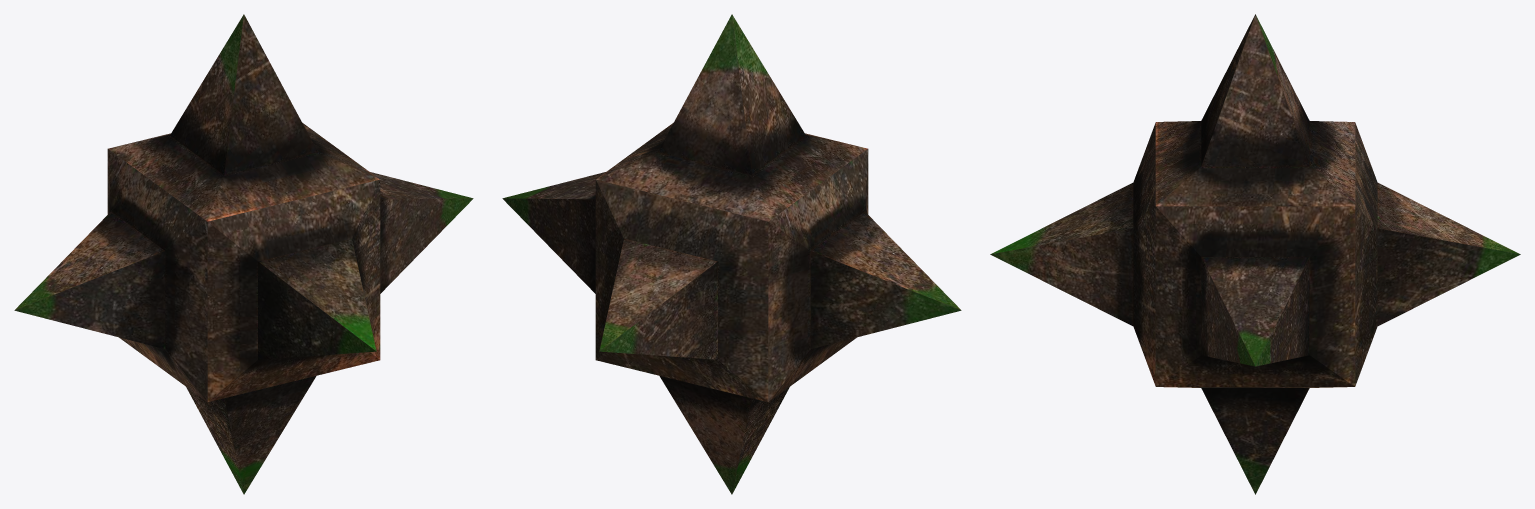
Rendered from Pincho.fbx.
3 views of the same model, side by side, from view 1: azimuth 30°, elevation 25°; view 2: azimuth 150°, elevation 25°; view 3: azimuth 270°, elevation 25° (orthographic).
Visible parts, largest first — view 1: Pincho; view 2: Pincho; view 3: Pincho.
Part boxes in pixels (<box>): Pincho: <box>14,14,473,494</box>; Pincho: <box>502,14,961,494</box>; Pincho: <box>990,14,1520,494</box>.
Bounding box in the file's own units: 532 × 532 × 532.
